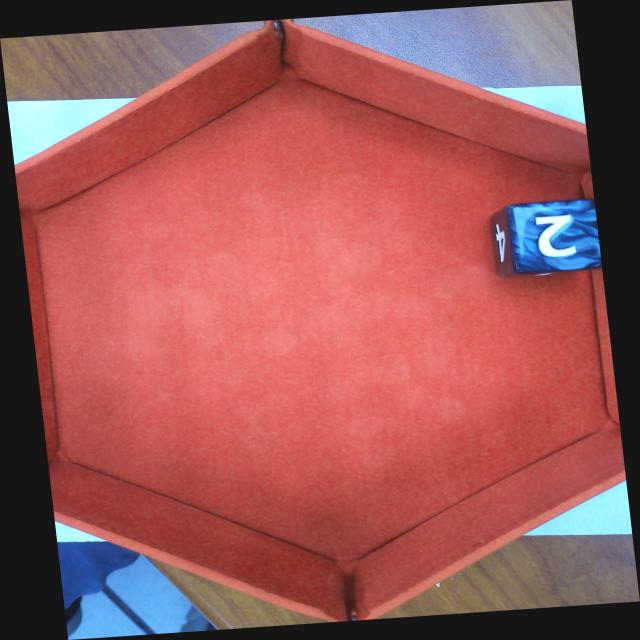dice: (514, 201, 605, 273)
